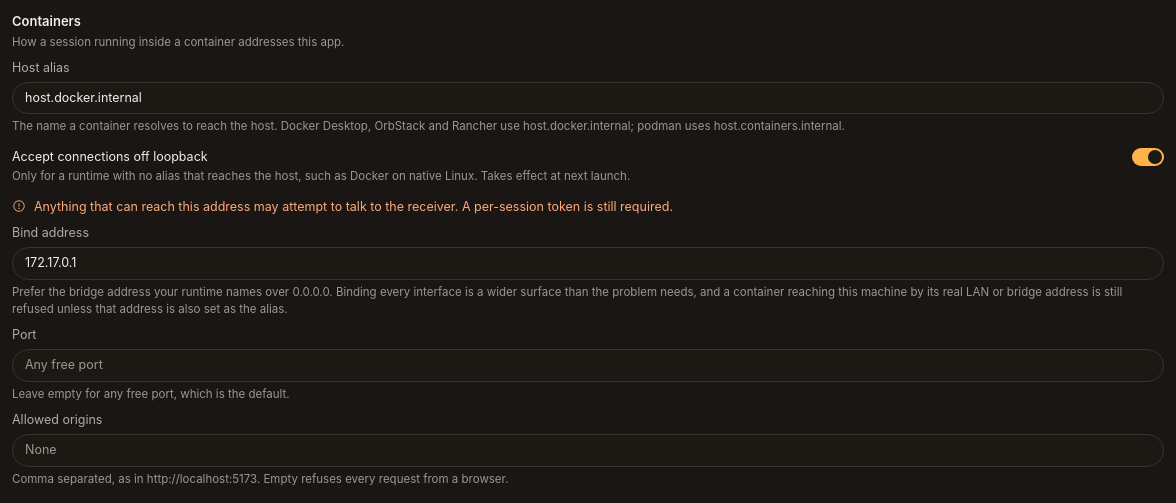
Test: the off-loopback bind › refuses to send an origin that is not one
The image size is (1176, 503).
In the field labelled "Allowed origins": x=588, y=450 12,434 -> 1164,467, type "http://ok.test, nope"
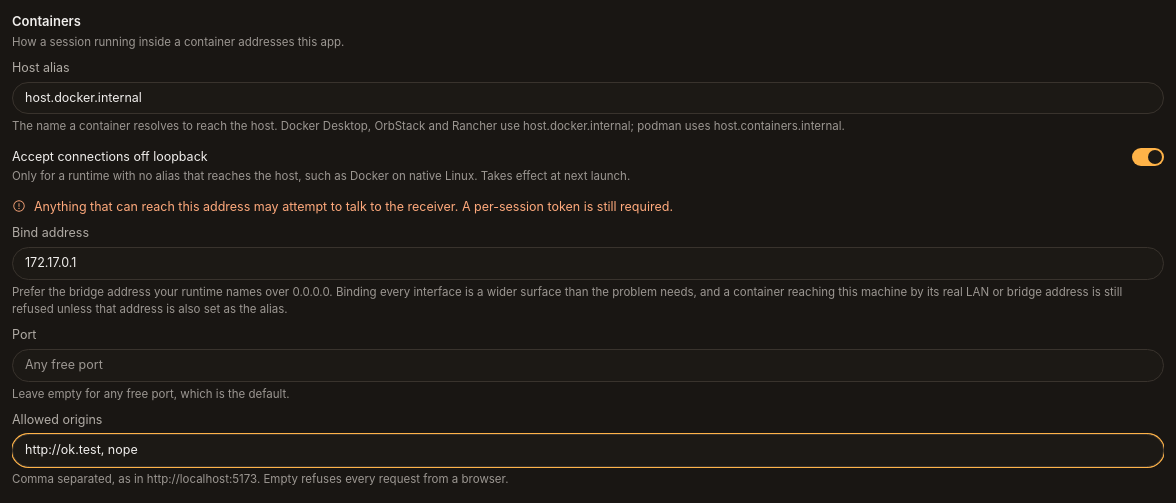
Press Tab
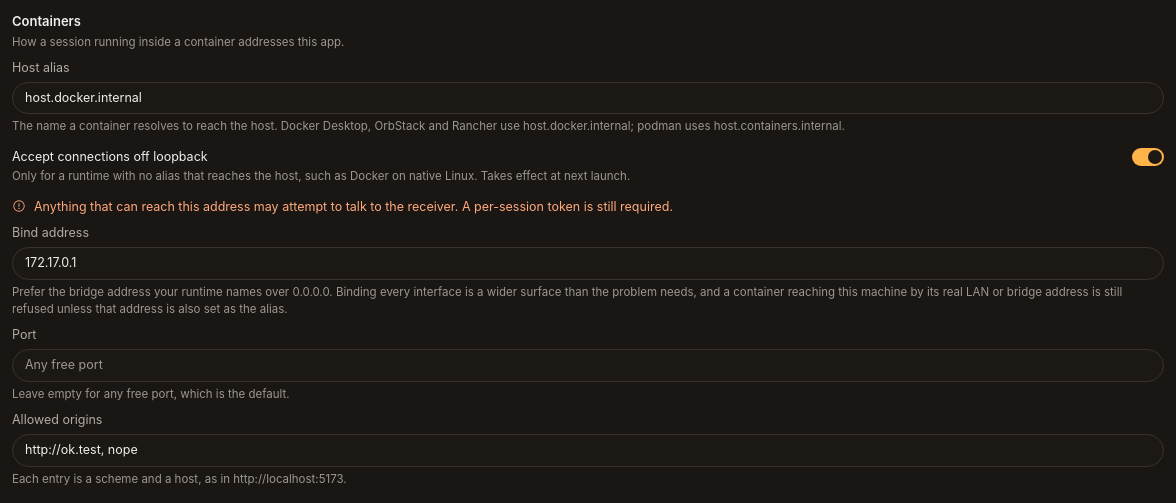
Now the text "scheme and a host" is shown, box 12,472 -> 347,486
